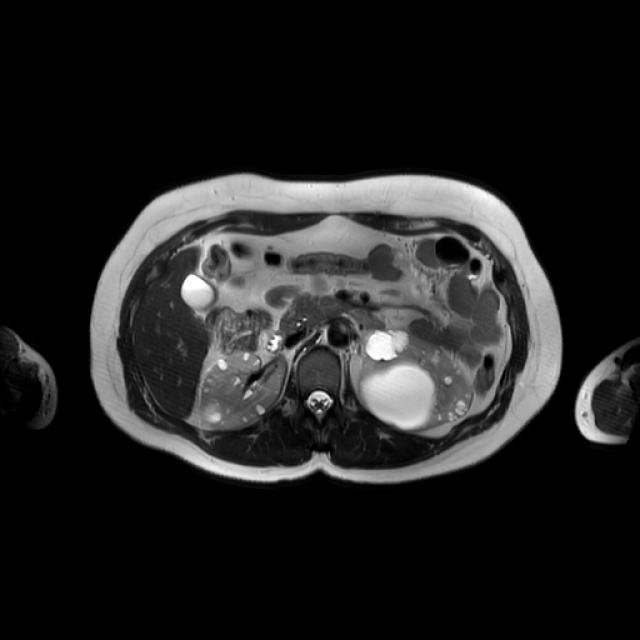sag: (200, 352, 290, 432)
sol: (360, 331, 473, 429)
